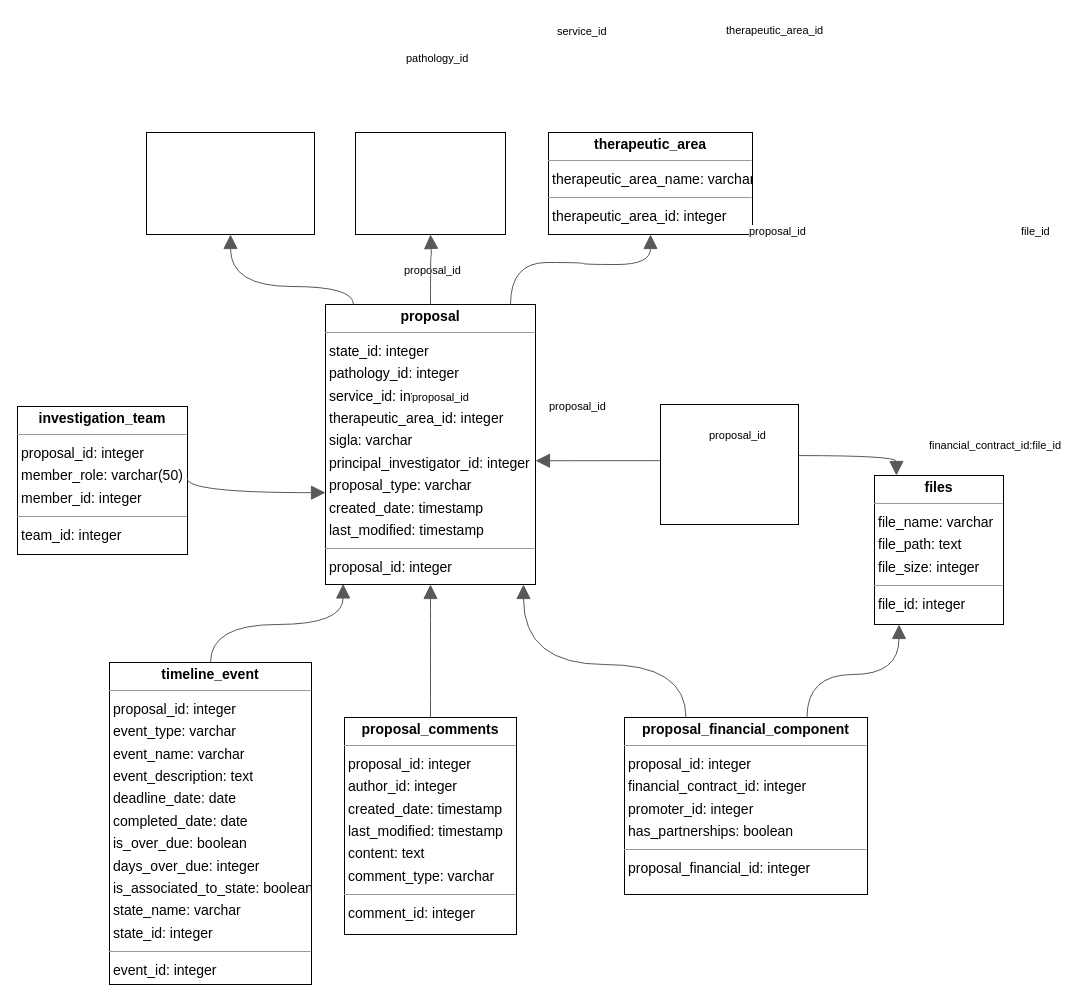
Image size: 1079x1002. Some labels were removed from this diagram. Each missing label, with the centre of its shape:
"pathology pathology_name: varchar pathology_id: integer" goes at (230,183).
"proposal_files proposal_id: integer file_id: integer id: integer" goes at (729,464).
"service service_name: varchar service_id: integer" goes at (430,183).
